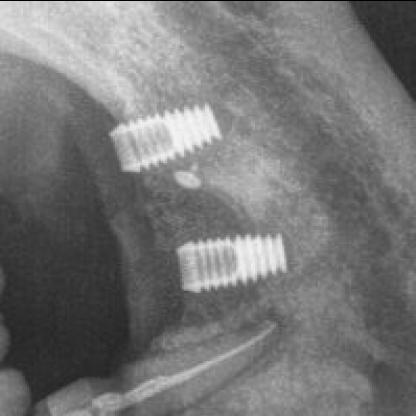Bicon: (103, 98, 228, 174), (166, 228, 293, 291)
